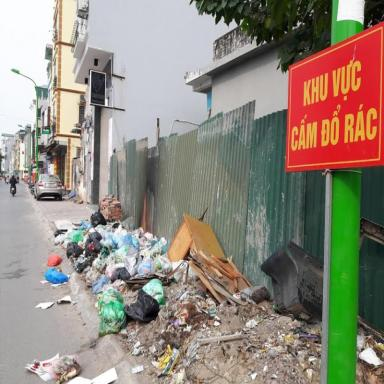plasticbag: (59, 209, 187, 335), (22, 345, 86, 381), (96, 287, 128, 339), (123, 289, 160, 325), (44, 267, 67, 286), (45, 254, 62, 267)
